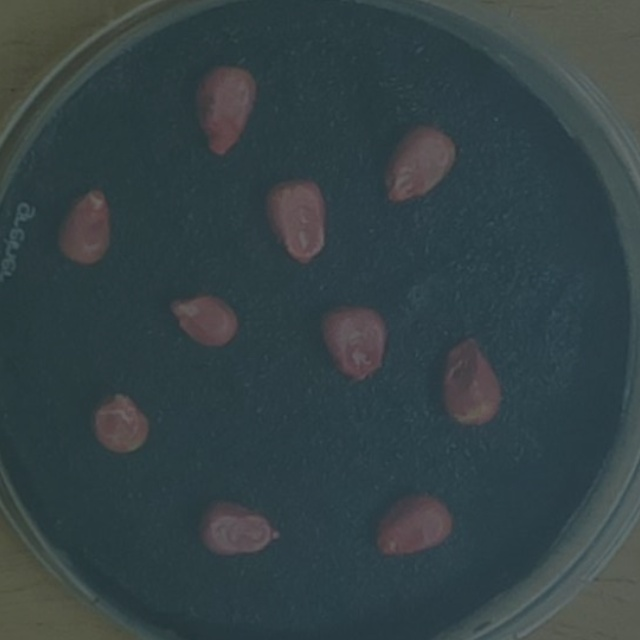Zea mays: (182, 53, 264, 164), (362, 481, 463, 566), (376, 115, 463, 211), (309, 295, 394, 392), (256, 168, 336, 271), (433, 324, 508, 431), (193, 490, 290, 562), (48, 177, 118, 271), (161, 283, 245, 353), (84, 382, 154, 458)
